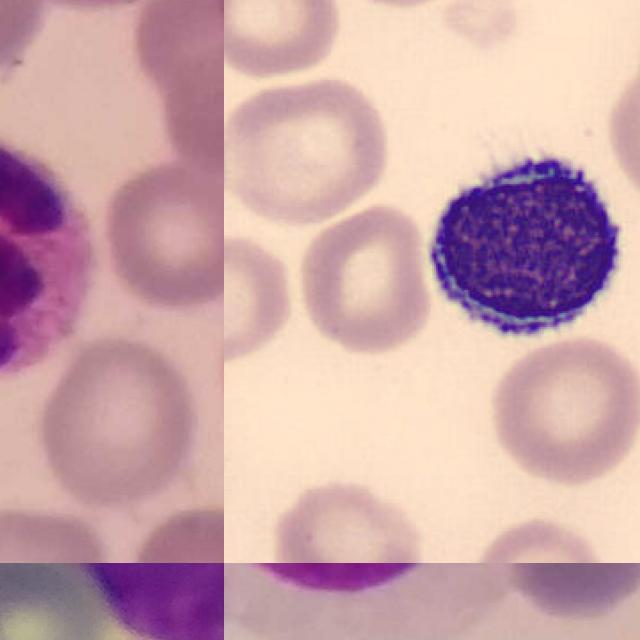Basophil: (62, 563, 224, 640)
Lymphocyte: (411, 136, 635, 350)
Monocyte: (224, 563, 549, 640)
Neutrophil: (0, 131, 96, 380)
RBC: (224, 73, 395, 228), (482, 332, 640, 489), (294, 200, 434, 359), (265, 476, 432, 563), (224, 221, 301, 381), (224, 0, 347, 81), (466, 514, 608, 563), (601, 66, 640, 214)
